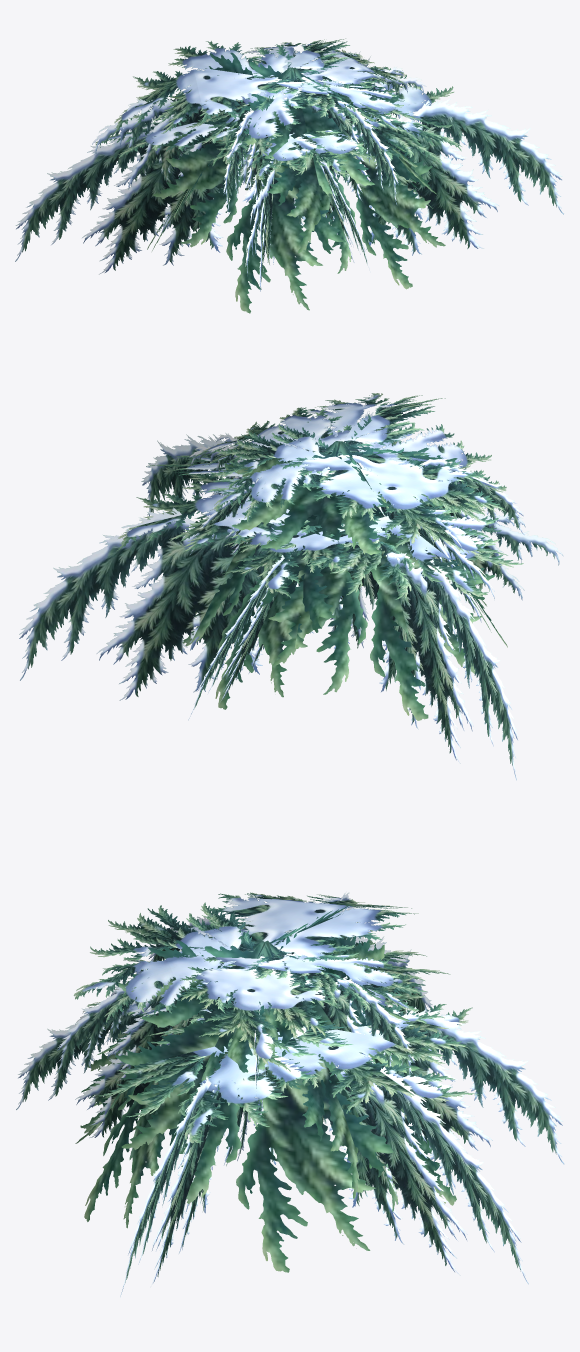
File: shrub_snow_b.glb
3 renders of one model, top to bottom at view 1: azimuth 30°, elevation 25°; view 2: azimuth 150°, elevation 25°; view 3: azimuth 270°, elevation 25°, orthographic. The views are drawn at different scales.
Visible parts, largest first — view 1: shrub_snow_b; view 2: shrub_snow_b; view 3: shrub_snow_b.
Part boxes in pixels (x1,y1,x2,y2): shrub_snow_b: [15, 38, 563, 313]; shrub_snow_b: [19, 393, 563, 780]; shrub_snow_b: [16, 892, 564, 1296].
Size of the model in its own units: 1.56 by 0.8073 by 1.26.
Materials: 1 (1 with a texture image).
